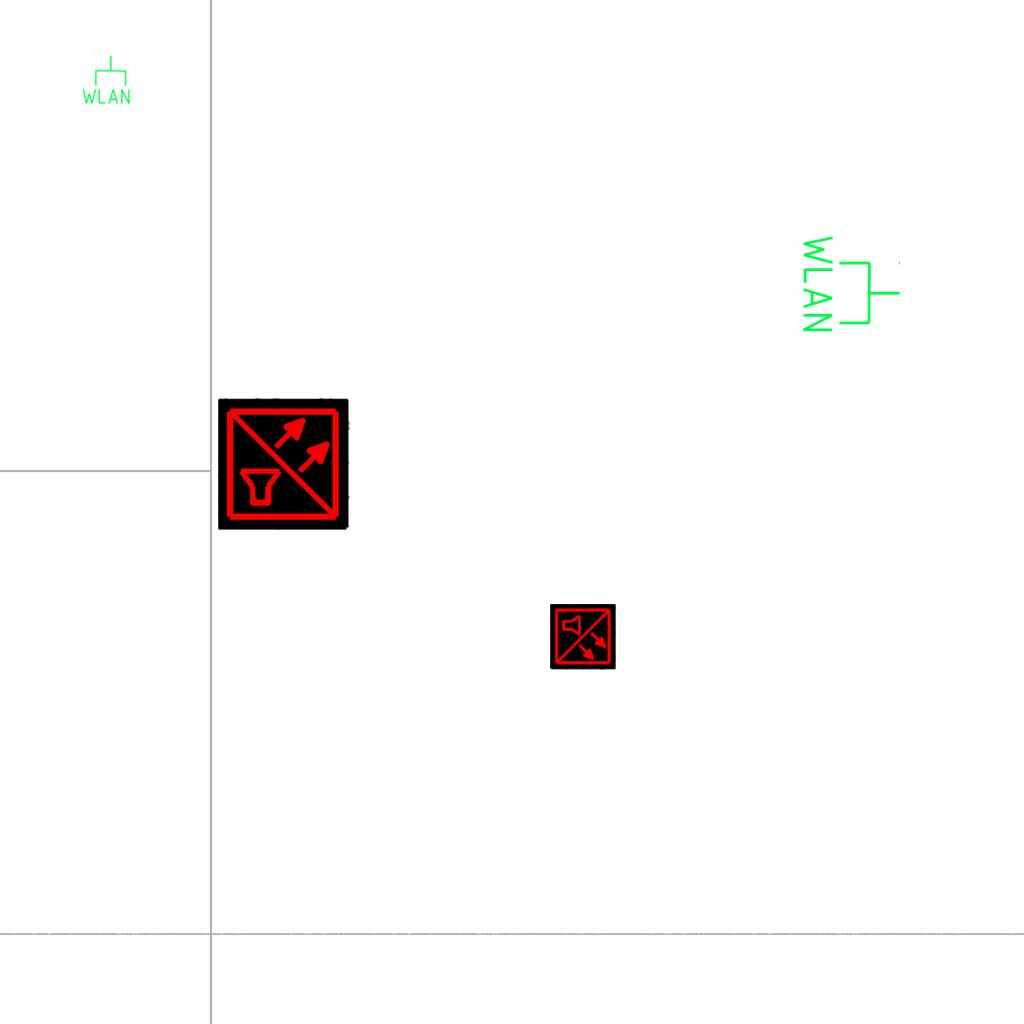OKW_Multisensormelder_(Kombination_optischer_Rauch-Kahlenmonoxid_Waerme-Melder): (218, 398, 350, 530), (550, 604, 616, 670)
WLAN: (799, 231, 903, 336), (80, 54, 132, 106)
